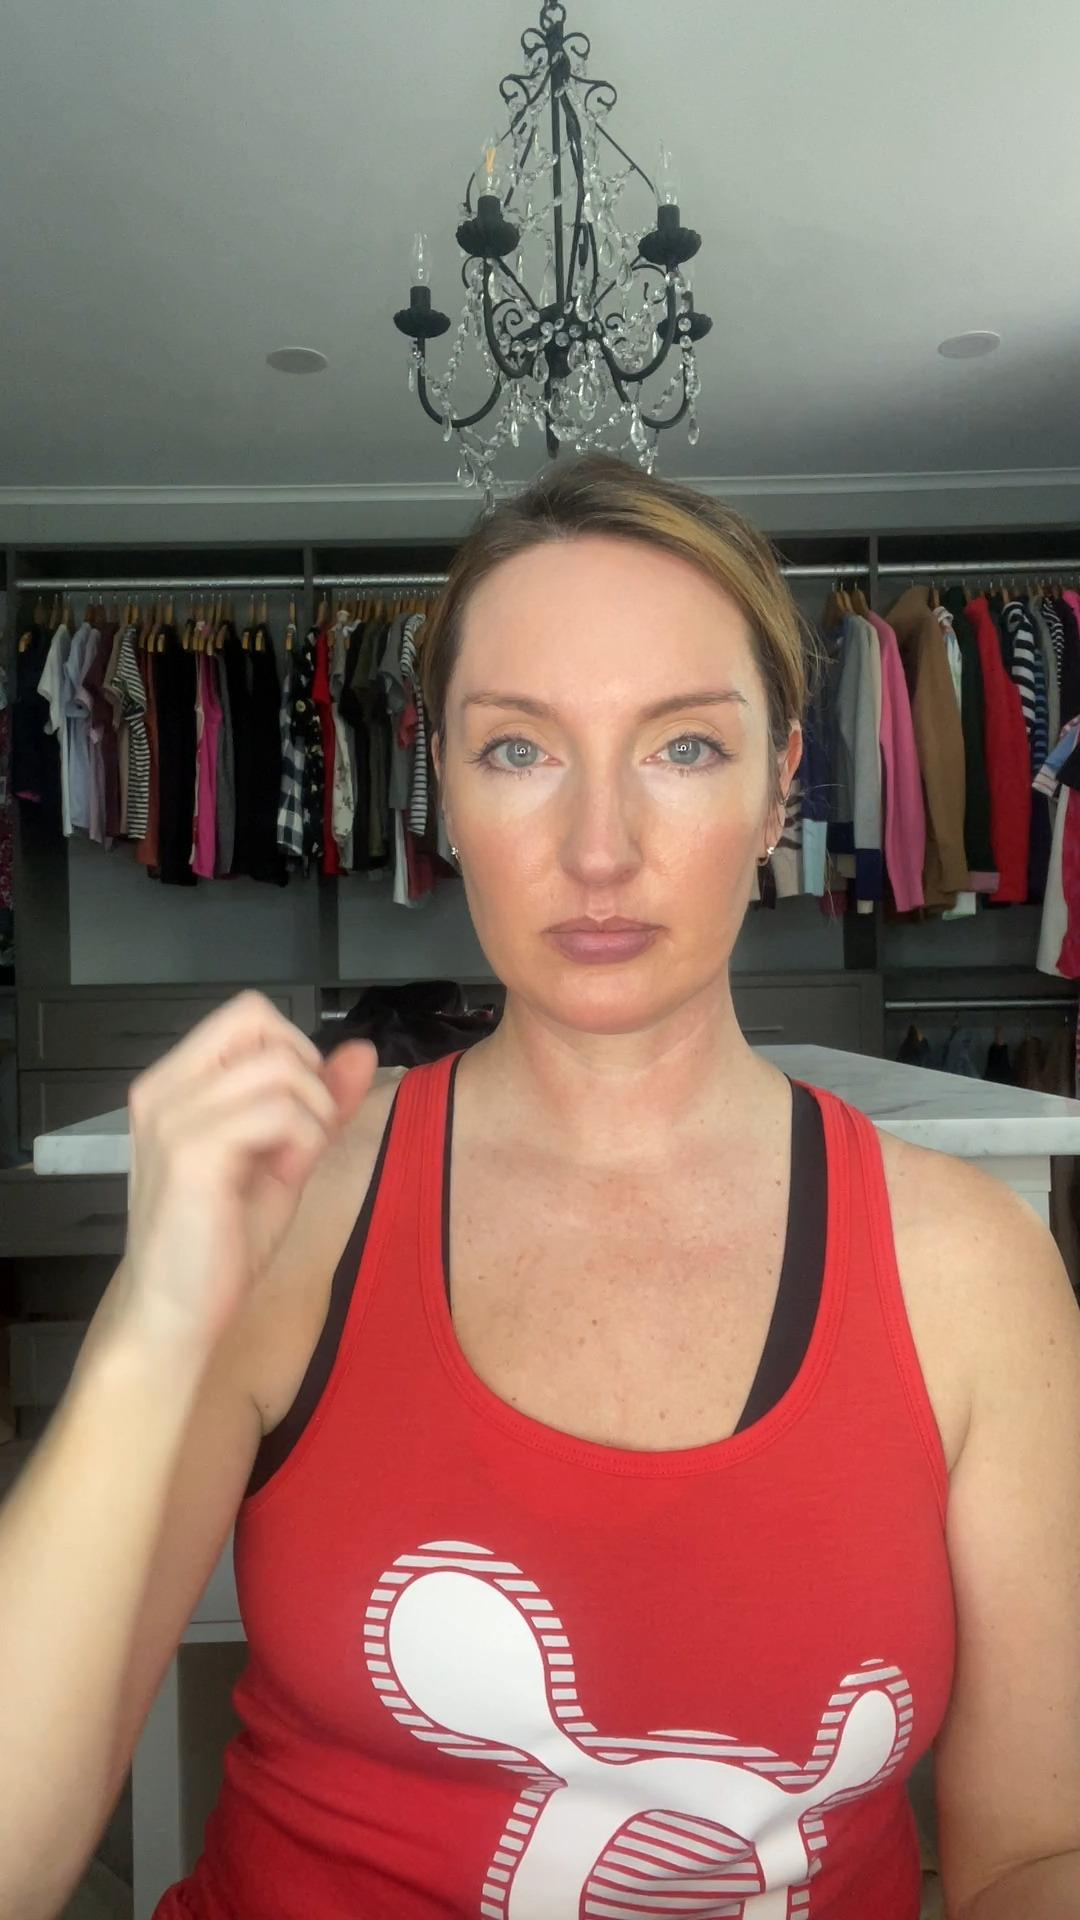Rock: (124, 990, 378, 1303)
